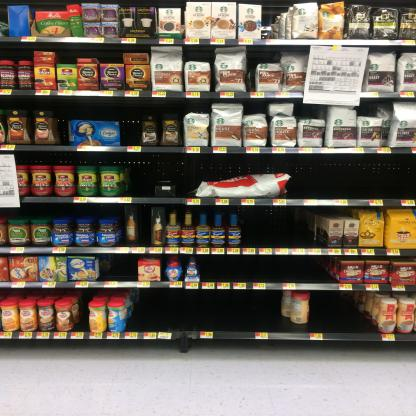Void: (141, 292, 277, 328), (302, 156, 413, 198), (206, 258, 331, 281), (246, 210, 317, 247), (313, 296, 357, 330), (128, 157, 155, 197), (119, 104, 143, 144), (70, 102, 114, 119), (180, 157, 194, 199), (184, 47, 214, 60), (254, 50, 274, 64), (300, 106, 320, 118)
